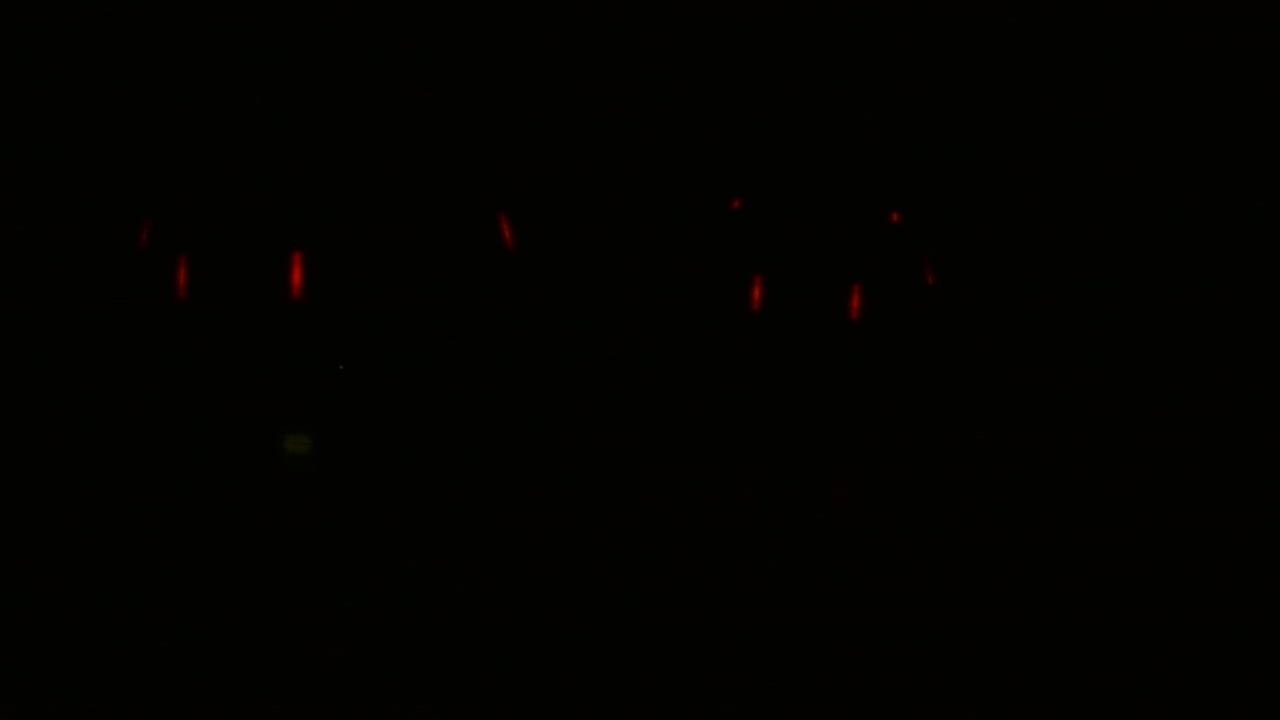pair1: (744, 265, 866, 326), (178, 249, 303, 301)
